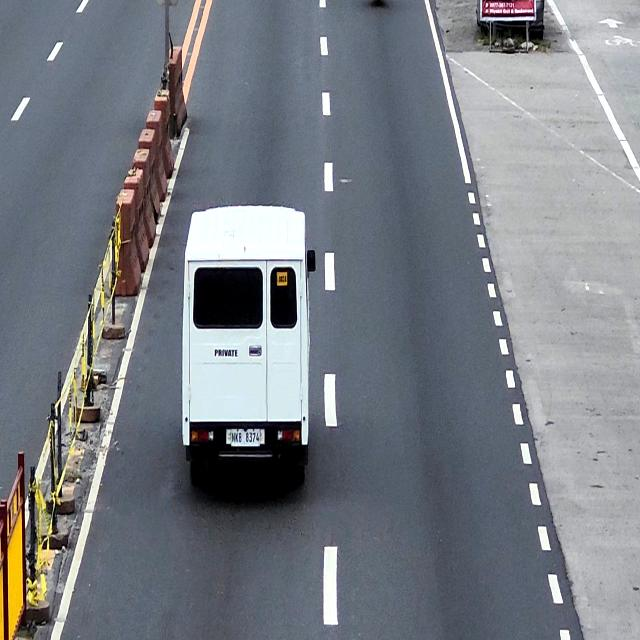Car: (181, 204, 316, 496)
License-Plate: (230, 429, 260, 446)
